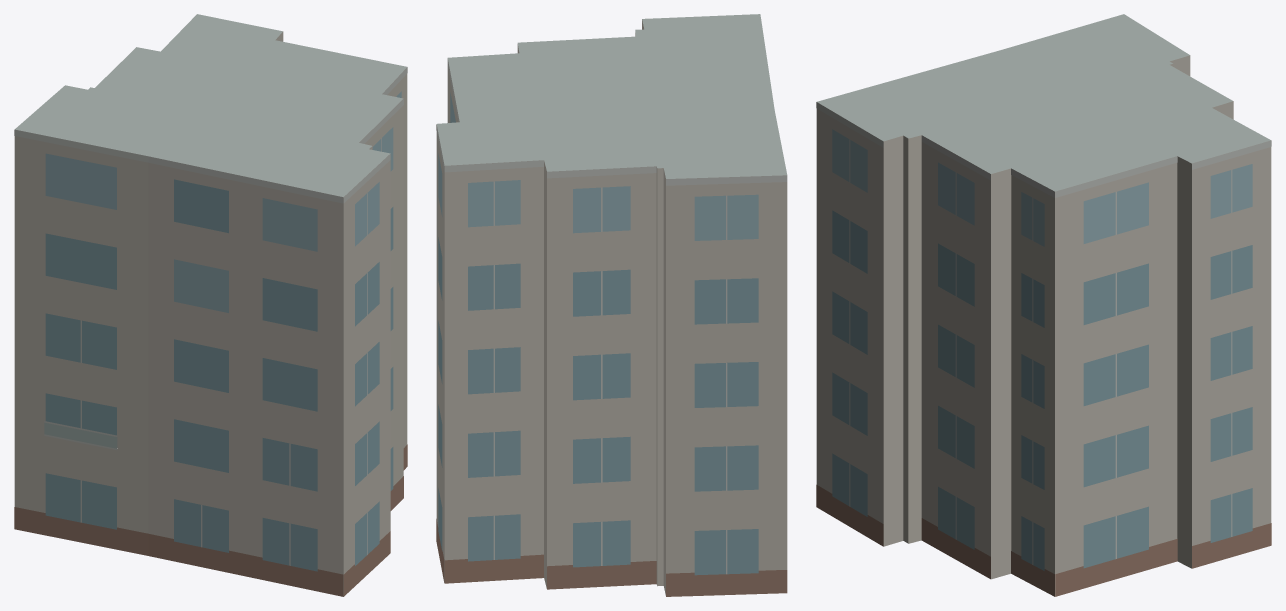
The model's file is survey-upis-32698197.glb.
3 views of the same model, side by side, from view 1: azimuth 30°, elevation 25°; view 2: azimuth 150°, elevation 25°; view 3: azimuth 270°, elevation 25° (orthographic). The views are drawn at different scales.
Parts seen in each view (by area): view 1: survey-upis-32698197.tmp; view 2: survey-upis-32698197.tmp; view 3: survey-upis-32698197.tmp.
Part boxes in pixels (x1,y1,x2,y2): survey-upis-32698197.tmp: (14, 14, 407, 596); survey-upis-32698197.tmp: (436, 14, 787, 596); survey-upis-32698197.tmp: (816, 14, 1271, 596).
Bounding box in the file's own units: 14.34 × 15.25 × 15.52.
